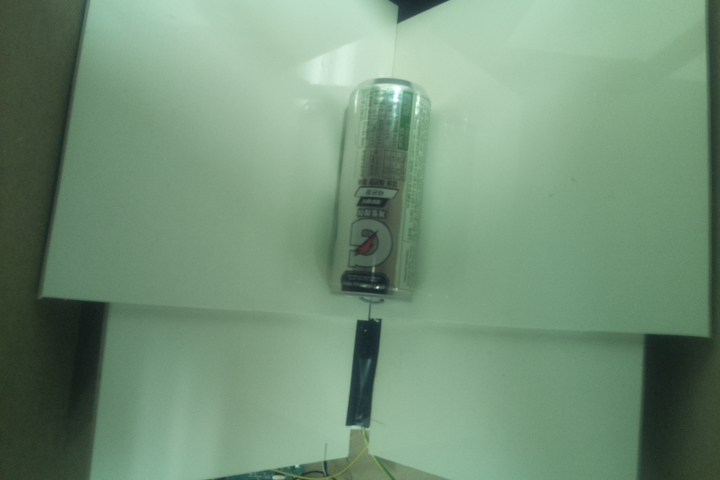can: (327, 76, 431, 306)
